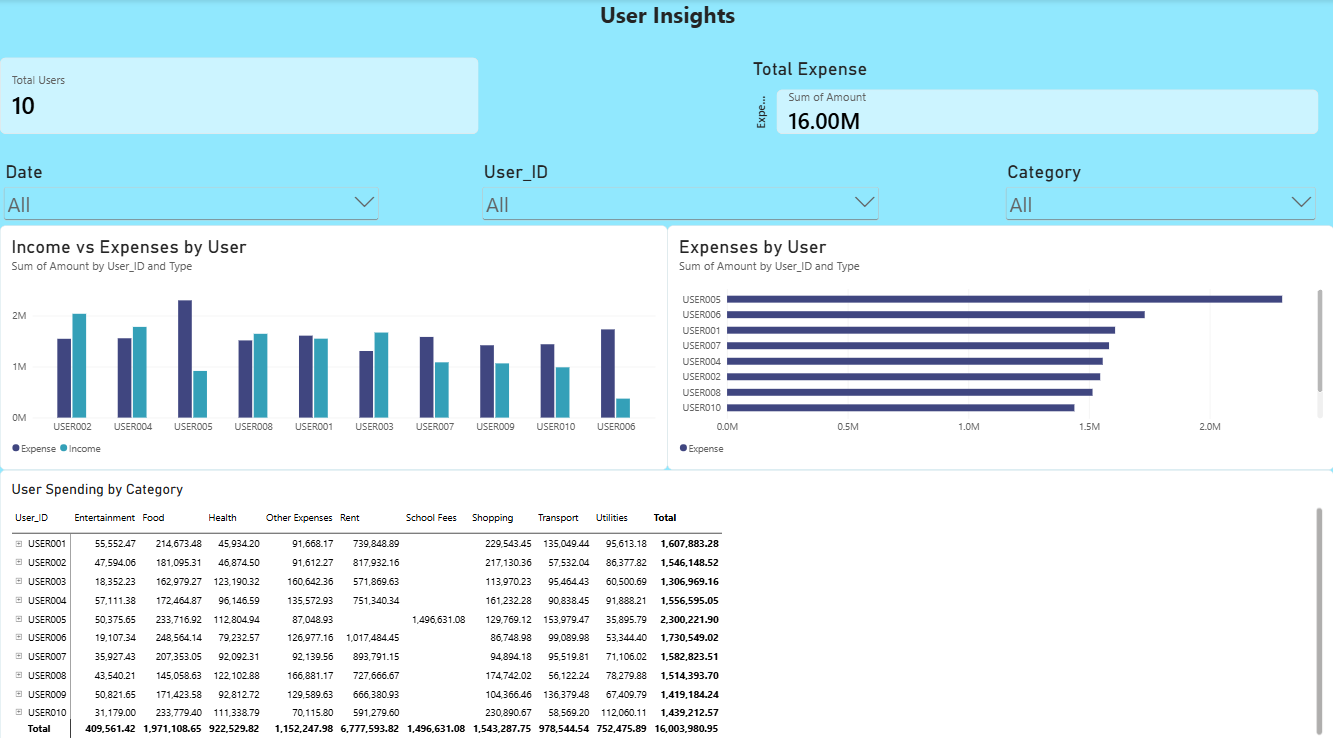

What the dashboard file says about the page in this screenshot:
{"tool":"powerbi","page":{"name":"User Insights","canvas":[1920,1080],"ordinal":3},"visuals":[{"type":"cardVisual","fields":{"Data":["synthetic_financial_transactions.Total Users"]},"box":[0,85,688.8,110.6],"z":0},{"type":"clusteredColumnChart","title":"Income vs Expenses by User","fields":{"Category":["synthetic_financial_transactions.User_ID"],"Series":["synthetic_financial_transactions.Type"],"Y":["Sum(synthetic_financial_transactions.Amount)"]},"box":[0,325.7,959.9,351.6],"z":1000},{"type":"clusteredBarChart","title":"Expenses by User","fields":{"Category":["synthetic_financial_transactions.User_ID"],"Series":["synthetic_financial_transactions.Type"],"Y":["Sum(synthetic_financial_transactions.Amount)"]},"box":[959.9,325.7,959.9,351.6],"z":2000},{"type":"pivotTable","title":"User Spending by Category","fields":{"Columns":["synthetic_financial_transactions.Category"],"Rows":["synthetic_financial_transactions.User_ID","synthetic_financial_transactions.Type"],"Values":["Sum(synthetic_financial_transactions.Amount)"]},"box":[0,677.5,1919.1,402.5],"z":3000},{"type":"slicer","fields":{"Values":["synthetic_financial_transactions.User_ID"]},"box":[688.8,232.4,581.1,93.5],"z":4000},{"type":"slicer","fields":{"Values":["synthetic_financial_transactions.Category"]},"box":[1440,232.4,456.4,85],"z":5000},{"type":"slicer","fields":{"Values":["synthetic_financial_transactions.Date"]},"box":[0,232.4,549.9,90.7],"z":6000},{"type":"cardVisual","title":"Total Expense","fields":{"Data":["Sum(synthetic_financial_transactions.Amount)"],"Rows":["synthetic_financial_transactions.Type"]},"box":[1082.8,85,813.5,110.6],"z":7000},{"type":"textbox","box":[0,0,1919.9,58.2],"z":8000}]}

Visuals, with their boxes in screenshot pixels (x1, y1, x2, y2), scaled from the page's 1920x1080 canvas onto the 1333x738 screenshot:
cardVisual - synthetic_financial_transactions.Total Users: 0,58,478,134
"Income vs Expenses by User" clusteredColumnChart: 0,223,666,463
"Expenses by User" clusteredBarChart: 666,223,1332,463
"User Spending by Category" pivotTable: 0,463,1332,737
slicer - synthetic_financial_transactions.User_ID: 478,159,882,223
slicer - synthetic_financial_transactions.Category: 1000,159,1317,217
slicer - synthetic_financial_transactions.Date: 0,159,382,221
"Total Expense" cardVisual: 752,58,1317,134
textbox: 0,0,1332,40
